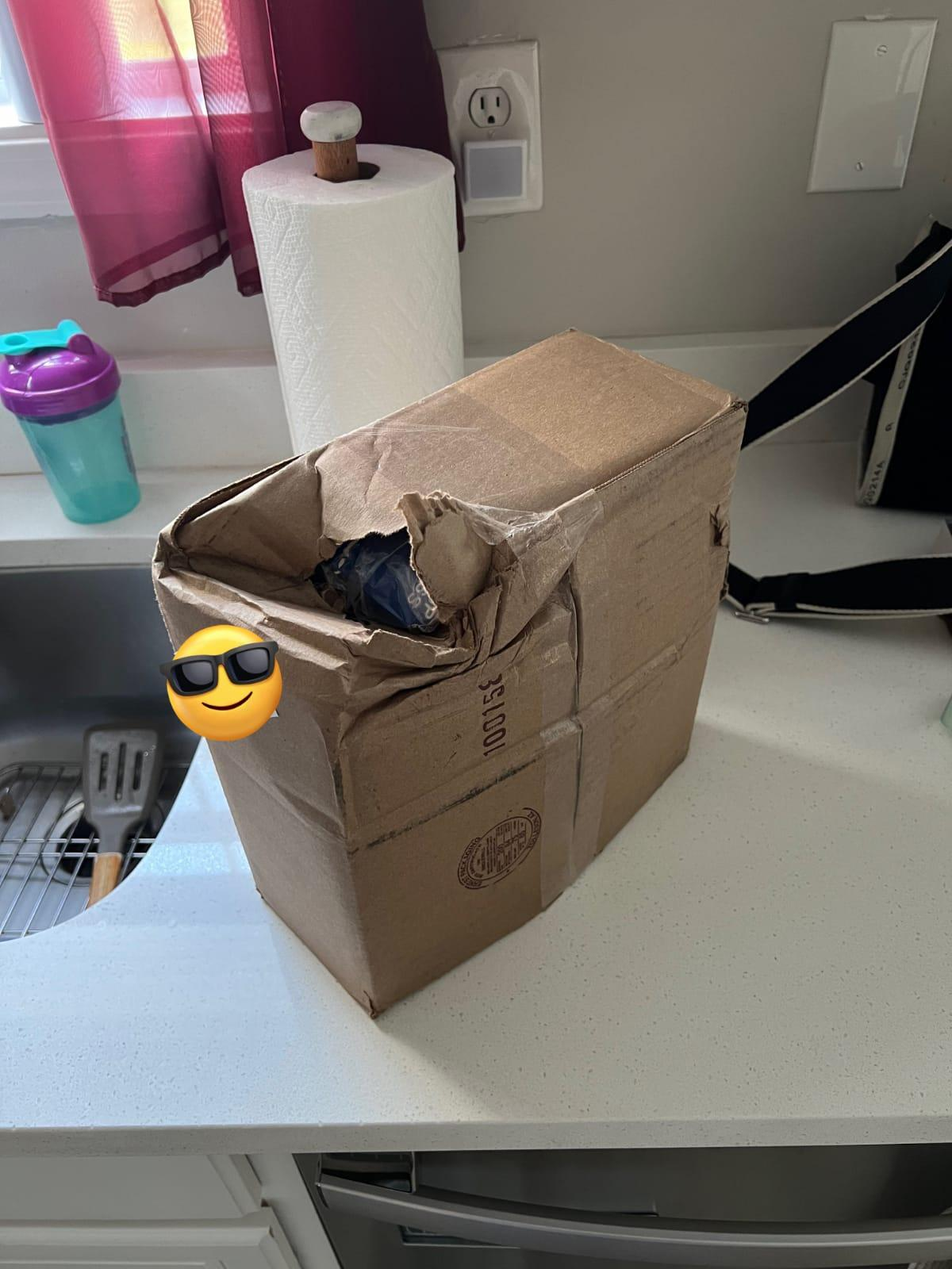damaged package: (159, 446, 542, 675)
undamaged: (121, 296, 764, 1039)
